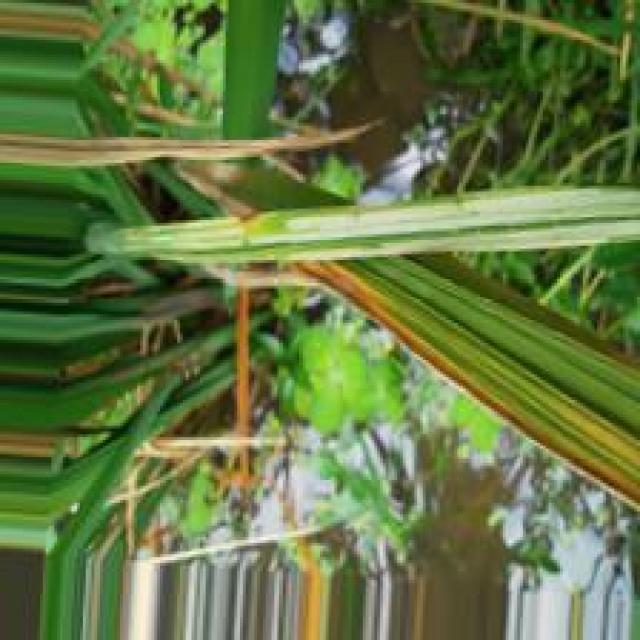Rice_Hispa: (110, 186, 640, 250), (109, 214, 639, 267)
